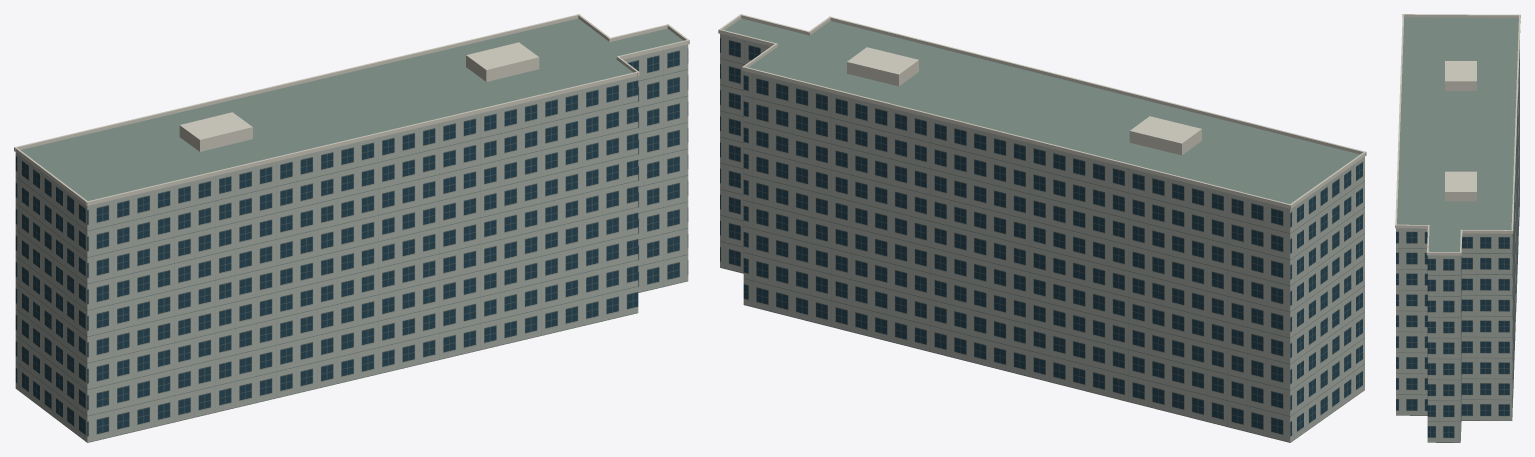
File: fragments.glb
3 views of the same model, side by side, from view 1: azimuth 30°, elevation 25°; view 2: azimuth 150°, elevation 25°; view 3: azimuth 270°, elevation 25° (orthographic). The views are drawn at different scales.
Parts seen in each view (by area): view 1: SM_IT1V3_Fragment_031, SM_IT1V3_Fragment_012, SM_IT1V3_Fragment_032, SM_IT1V3_Fragment_015, SM_IT1V3_Fragment_079, SM_IT1V3_Fragment_024, SM_IT1V3_Fragment_050, SM_IT1V3_Fragment_014, SM_IT1V3_Fragment_006, SM_IT1V3_Fragment_091, SM_IT1V3_Fragment_002, SM_IT1V3_Fragment_059 (+45 smaller); view 2: SM_IT1V3_Fragment_019, SM_IT1V3_Fragment_001, SM_IT1V3_Fragment_060, SM_IT1V3_Fragment_013, SM_IT1V3_Fragment_009, SM_IT1V3_Fragment_016, SM_IT1V3_Fragment_085, SM_IT1V3_Fragment_030, SM_IT1V3_Fragment_064, SM_IT1V3_Fragment_004, SM_IT1V3_Fragment_010, SM_IT1V3_Fragment_068 (+46 smaller); view 3: SM_IT1V3_Fragment_040, SM_IT1V3_Fragment_002, SM_IT1V3_Fragment_021, SM_IT1V3_Fragment_041, SM_IT1V3_Fragment_038, SM_IT1V3_Fragment_050, SM_IT1V3_Fragment_019, SM_IT1V3_Fragment_030, SM_IT1V3_Fragment_087, SM_IT1V3_Fragment_016, SM_IT1V3_Fragment_027, SM_IT1V3_Fragment_004 (+20 smaller).
Boxes of the visible parts, left/top/right/bottom form: SM_IT1V3_Fragment_031: left=380, top=100, right=482, bottom=212; SM_IT1V3_Fragment_012: left=459, top=74, right=582, bottom=161; SM_IT1V3_Fragment_032: left=458, top=172, right=551, bottom=268; SM_IT1V3_Fragment_015: left=531, top=181, right=630, bottom=280; SM_IT1V3_Fragment_079: left=55, top=318, right=166, bottom=406; SM_IT1V3_Fragment_024: left=305, top=180, right=396, bottom=286; SM_IT1V3_Fragment_050: left=269, top=111, right=393, bottom=184; SM_IT1V3_Fragment_014: left=321, top=286, right=401, bottom=387; SM_IT1V3_Fragment_006: left=56, top=350, right=175, bottom=442; SM_IT1V3_Fragment_091: left=344, top=228, right=441, bottom=325; SM_IT1V3_Fragment_002: left=538, top=33, right=645, bottom=116; SM_IT1V3_Fragment_059: left=242, top=159, right=329, bottom=257; SM_IT1V3_Fragment_019: left=884, top=78, right=991, bottom=175; SM_IT1V3_Fragment_001: left=1234, top=185, right=1317, bottom=299; SM_IT1V3_Fragment_060: left=968, top=156, right=1069, bottom=255; SM_IT1V3_Fragment_013: left=1232, top=291, right=1332, bottom=397; SM_IT1V3_Fragment_009: left=822, top=235, right=923, bottom=333; SM_IT1V3_Fragment_016: left=743, top=238, right=829, bottom=323; SM_IT1V3_Fragment_085: left=1109, top=293, right=1199, bottom=393; SM_IT1V3_Fragment_030: left=1056, top=117, right=1152, bottom=220; SM_IT1V3_Fragment_064: left=978, top=239, right=1061, bottom=331; SM_IT1V3_Fragment_004: left=973, top=113, right=1088, bottom=183; SM_IT1V3_Fragment_010: left=805, top=102, right=895, bottom=185; SM_IT1V3_Fragment_068: left=752, top=62, right=860, bottom=135; SM_IT1V3_Fragment_040: left=1461, top=223, right=1513, bottom=300; SM_IT1V3_Fragment_002: left=1395, top=200, right=1481, bottom=253; SM_IT1V3_Fragment_021: left=1461, top=309, right=1513, bottom=377; SM_IT1V3_Fragment_041: left=1426, top=235, right=1462, bottom=317; SM_IT1V3_Fragment_038: left=1434, top=167, right=1515, bottom=204; SM_IT1V3_Fragment_050: left=1398, top=95, right=1464, bottom=134; SM_IT1V3_Fragment_019: left=1436, top=140, right=1516, bottom=206; SM_IT1V3_Fragment_030: left=1437, top=78, right=1518, bottom=149; SM_IT1V3_Fragment_087: left=1396, top=238, right=1427, bottom=309; SM_IT1V3_Fragment_016: left=1470, top=339, right=1513, bottom=420; SM_IT1V3_Fragment_027: left=1427, top=312, right=1461, bottom=370; SM_IT1V3_Fragment_004: left=1459, top=102, right=1517, bottom=148.
Size of the model in its own units: 2.81 by 1.08 by 0.6256.
Materials: 4 (2 with a texture image).
